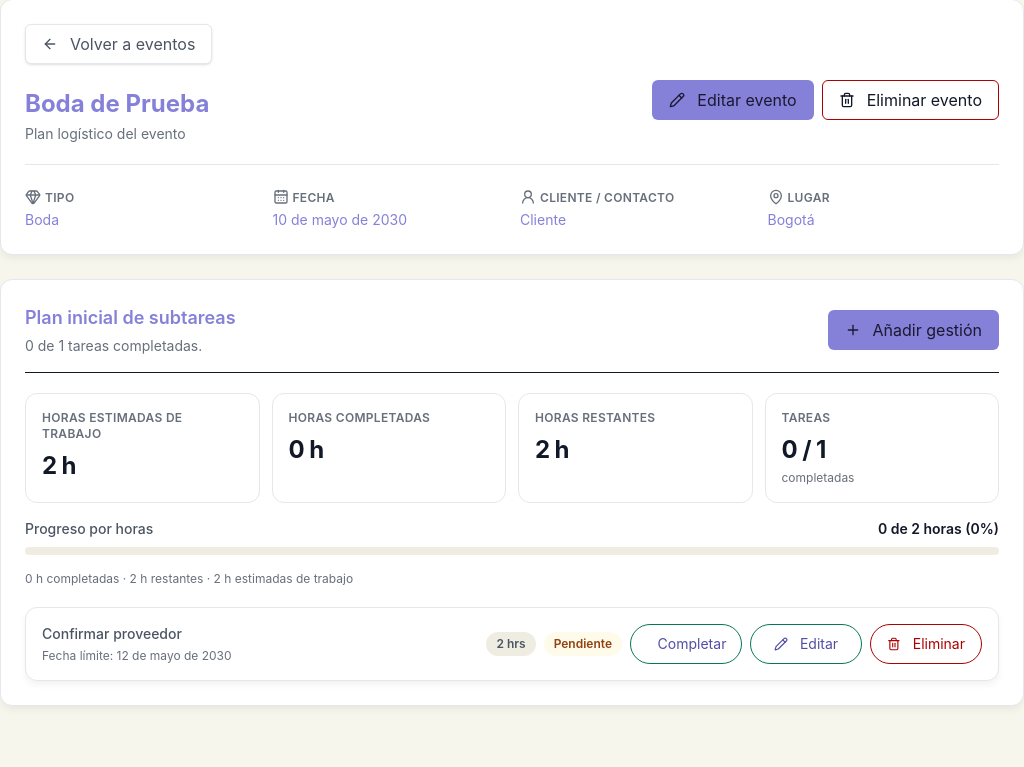
Test: guardado de una gestión editada › abre el ConflictoModal cuando el PUT responde 409
The image size is (1024, 767).
Click the button "Editar" at (806,644), box 750,624 -> 862,664
(page scrolled)
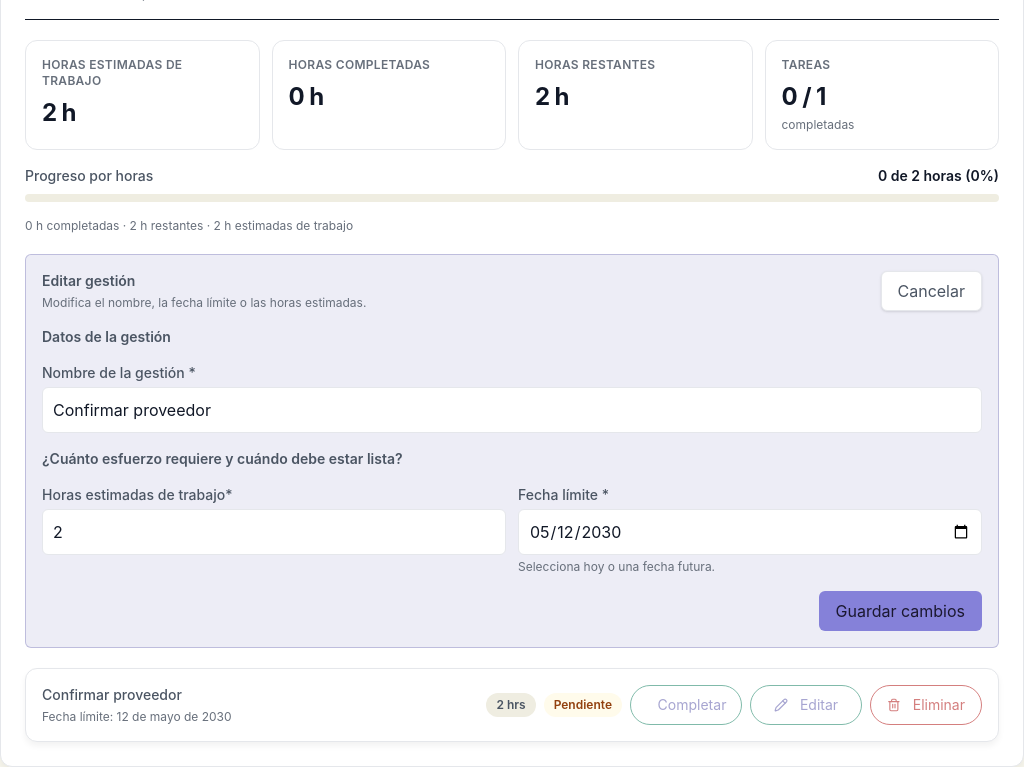
Check: the field with id "edit-subtask-title" is shown, box 42,387 -> 982,433
Check: the form with id "edit-subtask-title" is shown
Submit the form with id "edit-subtask-title", box 25,254 -> 999,648
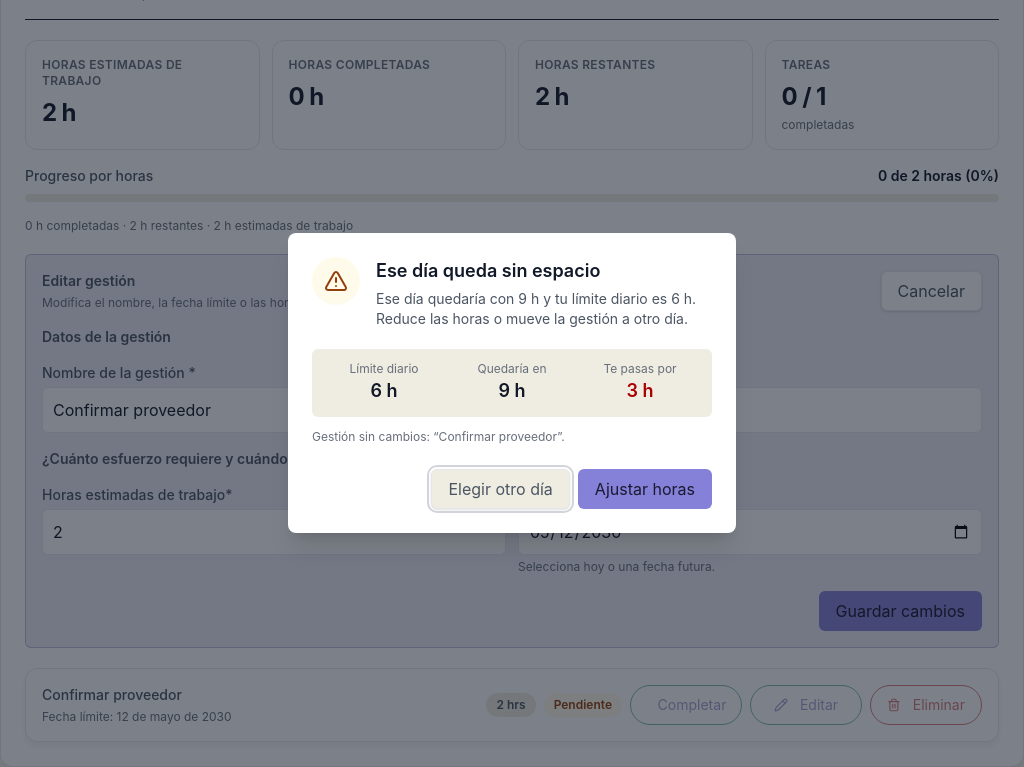
Check: the dialog is shown, box 288,233 -> 736,533
Check: the dialog shows "quedaría con 9 h", box 376,290 -> 696,327
Check: the dialog shows "límite diario es 6 h", box 376,290 -> 696,327
